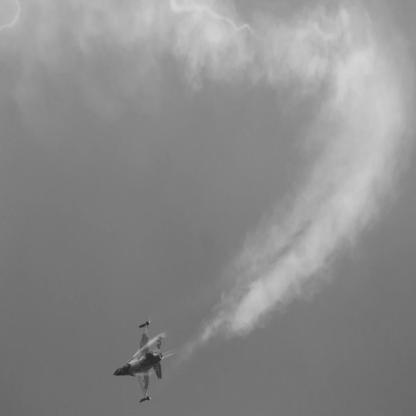F16: (113, 321, 165, 404)
